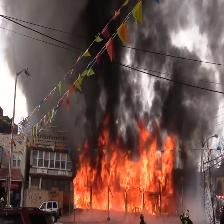fire: (70, 156, 171, 215)
smoke: (21, 4, 109, 134), (145, 6, 223, 116)
